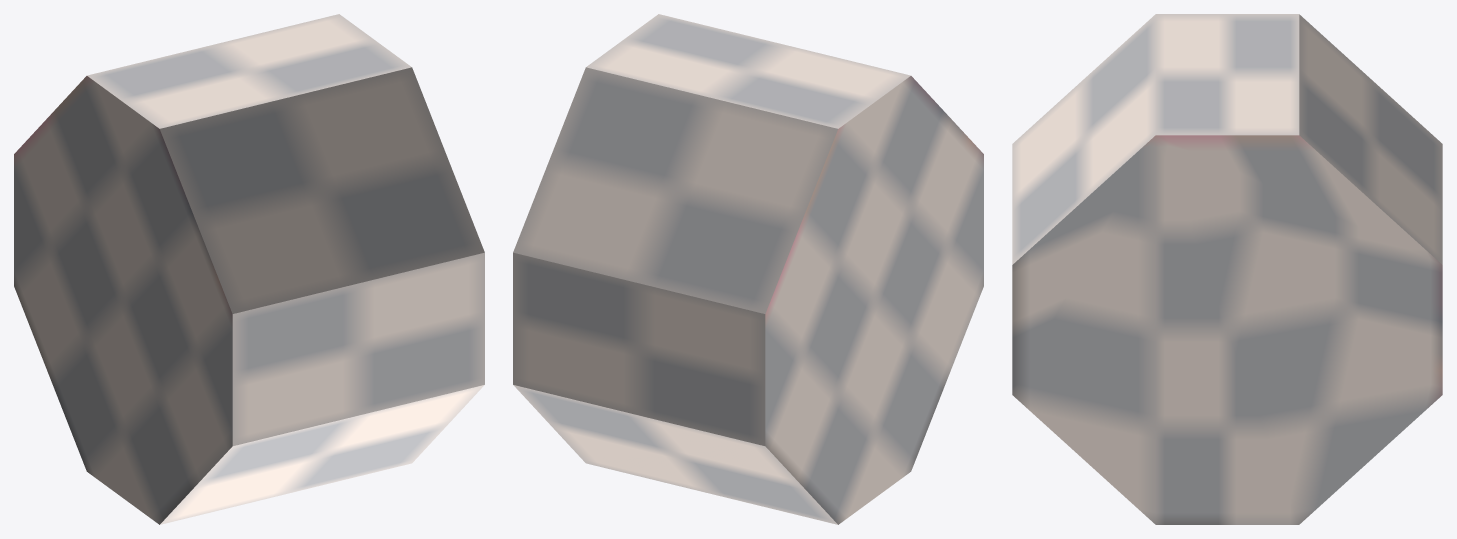
File: wheel.obj
The picture shows the model from 3 angles, left to right: view 1: azimuth 30°, elevation 25°; view 2: azimuth 150°, elevation 25°; view 3: azimuth 270°, elevation 25°; orthographic projection.
Visible parts, largest first — view 1: wheel; view 2: wheel; view 3: wheel.
Boxes of the visible parts, box(x1,y1,x2,y2) form: wheel: box(14, 14, 484, 524); wheel: box(513, 14, 983, 524); wheel: box(1012, 14, 1442, 524).
Bounding box in the file's own units: 1 × 1.5 × 1.5.
1 material, 1 textured.
